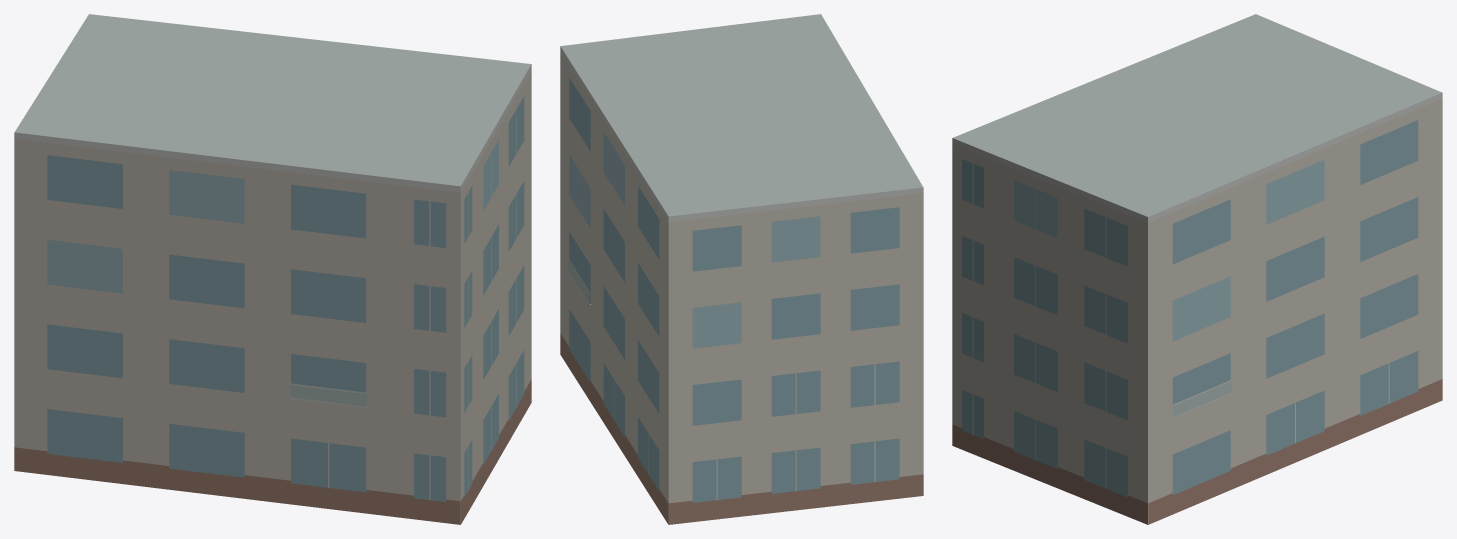
File: survey-upis-33019100.glb
3 renders of one model, left to right at view 1: azimuth 30°, elevation 25°; view 2: azimuth 150°, elevation 25°; view 3: azimuth 270°, elevation 25°, orthographic. The views are drawn at different scales.
Parts seen in each view (by area): view 1: survey-upis-33019100.tmp; view 2: survey-upis-33019100.tmp; view 3: survey-upis-33019100.tmp.
Part boxes in pixels (x1,y1,x2,y2): survey-upis-33019100.tmp: (14, 14, 531, 524); survey-upis-33019100.tmp: (560, 14, 923, 524); survey-upis-33019100.tmp: (952, 14, 1442, 524).
Bounding box in the file's own units: 18.12 × 12.8 × 18.48.
